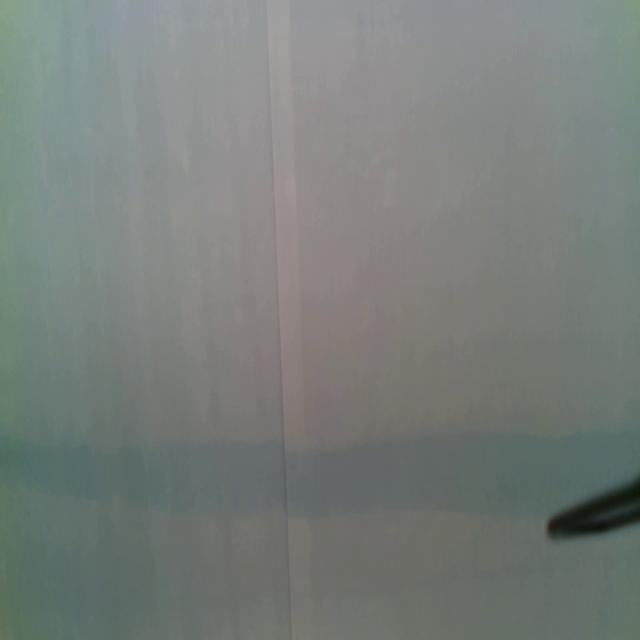color bleeding: (1, 424, 546, 527)
